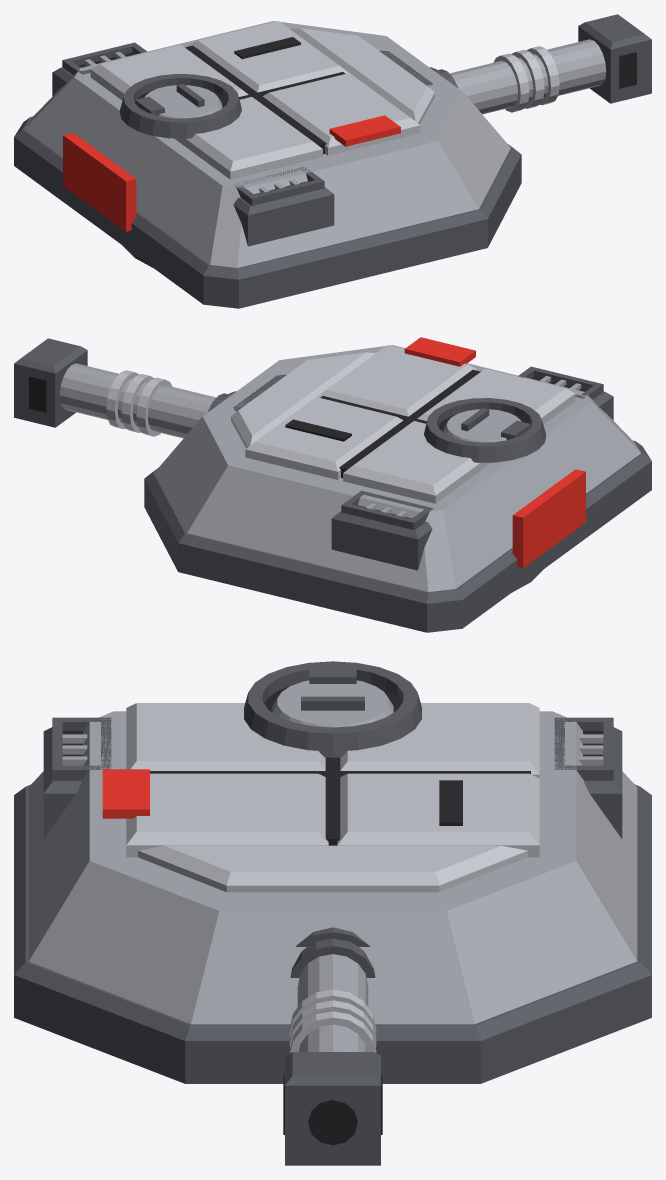
The model's file is vge_egun_gauss.obj.
The picture shows the model from 3 angles, top to bottom: view 1: azimuth 30°, elevation 25°; view 2: azimuth 150°, elevation 25°; view 3: azimuth 270°, elevation 25°; orthographic projection. The views are drawn at different scales.
Visible parts, largest first — view 1: vge_egun_gauss_3, vge_egun_gauss_1, vge_egun_gauss_2, vge_egun_gauss_12, vge_egun_gauss_10, vge_egun_gauss_44, vge_egun_gauss_6, vge_egun_gauss_14, vge_egun_gauss_55, vge_egun_gauss_15, vge_egun_gauss_8, vge_egun_gauss_20 (+15 smaller); view 2: vge_egun_gauss_3, vge_egun_gauss_1, vge_egun_gauss_2, vge_egun_gauss_10, vge_egun_gauss_12, vge_egun_gauss_44, vge_egun_gauss_8, vge_egun_gauss_14, vge_egun_gauss_55, vge_egun_gauss_15, vge_egun_gauss_6, vge_egun_gauss_30 (+15 smaller); view 3: vge_egun_gauss_3, vge_egun_gauss_1, vge_egun_gauss_2, vge_egun_gauss_10, vge_egun_gauss_12, vge_egun_gauss_14, vge_egun_gauss_8, vge_egun_gauss_6, vge_egun_gauss_15, vge_egun_gauss_50, vge_egun_gauss_44, vge_egun_gauss_17 (+17 smaller).
Part boxes in pixels (box(x1,y1,x2,y2)): vge_egun_gauss_3: box(25, 21, 510, 267); vge_egun_gauss_1: box(14, 137, 521, 308); vge_egun_gauss_2: box(14, 116, 521, 279); vge_egun_gauss_12: box(188, 21, 348, 92); vge_egun_gauss_10: box(262, 73, 419, 147); vge_egun_gauss_44: box(449, 39, 606, 114); vge_egun_gauss_6: box(186, 97, 322, 171); vge_egun_gauss_14: box(290, 28, 434, 122); vge_egun_gauss_55: box(63, 132, 136, 231); vge_egun_gauss_15: box(119, 74, 241, 138); vge_egun_gauss_8: box(91, 44, 248, 96); vge_egun_gauss_20: box(233, 194, 334, 246); vge_egun_gauss_3: box(155, 345, 640, 591); vge_egun_gauss_1: box(144, 461, 651, 632); vge_egun_gauss_2: box(144, 440, 651, 603); vge_egun_gauss_10: box(317, 345, 477, 416); vge_egun_gauss_12: box(246, 397, 402, 471); vge_egun_gauss_44: box(59, 363, 216, 438); vge_egun_gauss_8: box(343, 421, 479, 495); vge_egun_gauss_14: box(231, 352, 375, 446); vge_egun_gauss_55: box(512, 469, 585, 568); vge_egun_gauss_15: box(424, 398, 546, 462); vge_egun_gauss_6: box(417, 368, 574, 420); vge_egun_gauss_30: box(331, 518, 432, 570); vge_egun_gauss_3: box(28, 711, 637, 1024); vge_egun_gauss_1: box(14, 975, 651, 1083); vge_egun_gauss_2: box(14, 784, 651, 1040); vge_egun_gauss_10: box(126, 773, 328, 845); vge_egun_gauss_12: box(337, 773, 539, 845); vge_egun_gauss_14: box(138, 845, 527, 885); vge_egun_gauss_8: box(340, 703, 539, 774); vge_egun_gauss_6: box(126, 703, 325, 770); vge_egun_gauss_15: box(244, 661, 421, 757); vge_egun_gauss_50: box(285, 1085, 380, 1165); vge_egun_gauss_44: box(297, 954, 368, 1051); vge_egun_gauss_17: box(272, 680, 393, 727).
Bounding box in the file's own units: 3.09 × 0.84 × 2.16.
